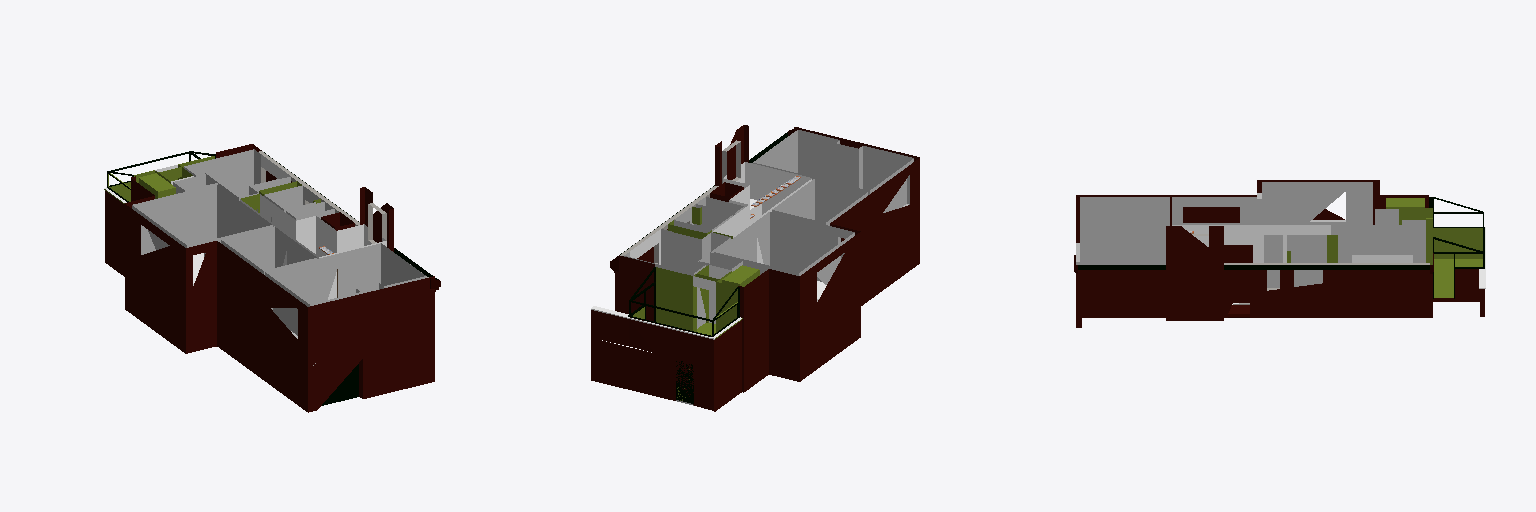
3 renders of one model, left to right at view 1: azimuth 30°, elevation 25°; view 2: azimuth 150°, elevation 25°; view 3: azimuth 270°, elevation 25°, orthographic.
Parts seen in each view (by area): view 1: ground; view 2: ground; view 3: ground.
Boxes of the visible parts, x1=… form: ground: x1=104, y1=144, x2=440, y2=412; ground: x1=591, y1=125, x2=919, y2=411; ground: x1=1074, y1=180, x2=1485, y2=327.
Bounding box in the file's own units: 7.67 × 6.26 × 16.76.
Materials: 59 (3 with a texture image).